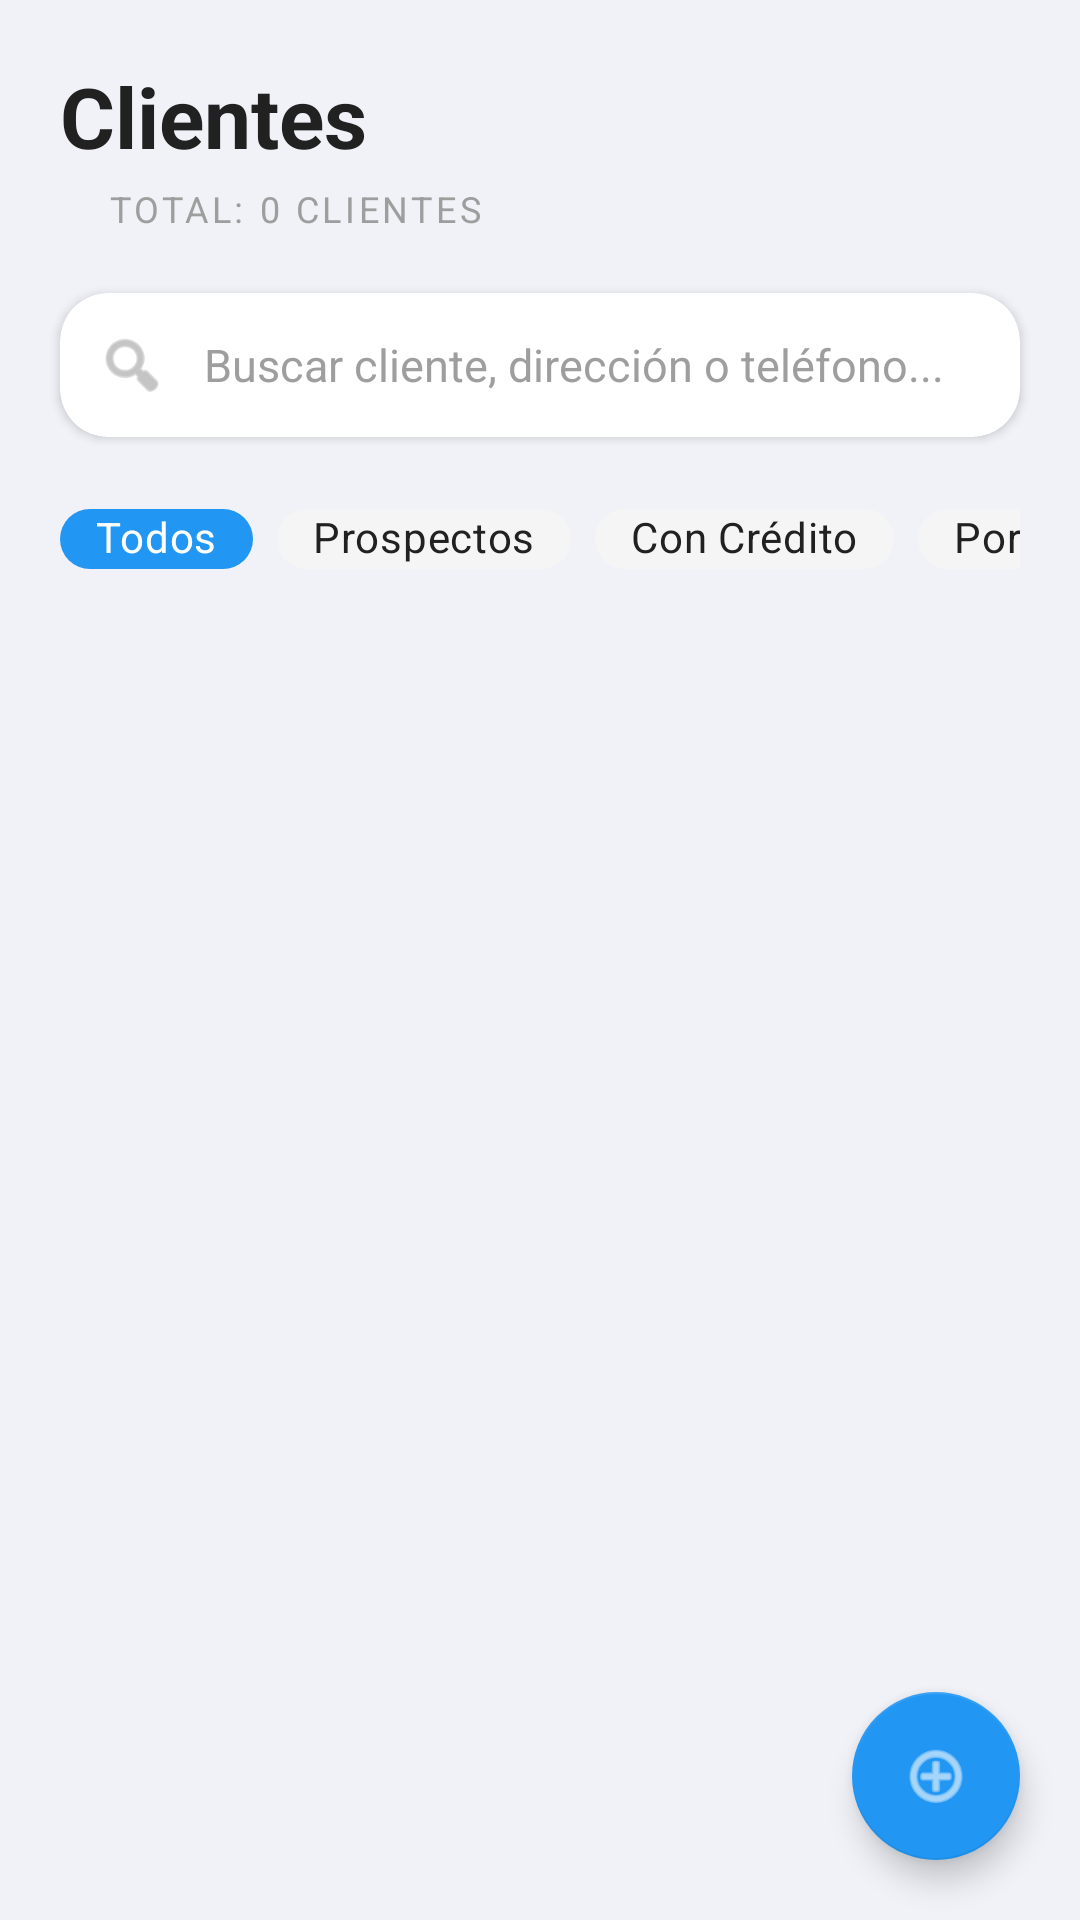

Named icons in this screenshot (1080 × 1920) and their centers, (x,y):
add: (936,1776)
search: (132,365)
